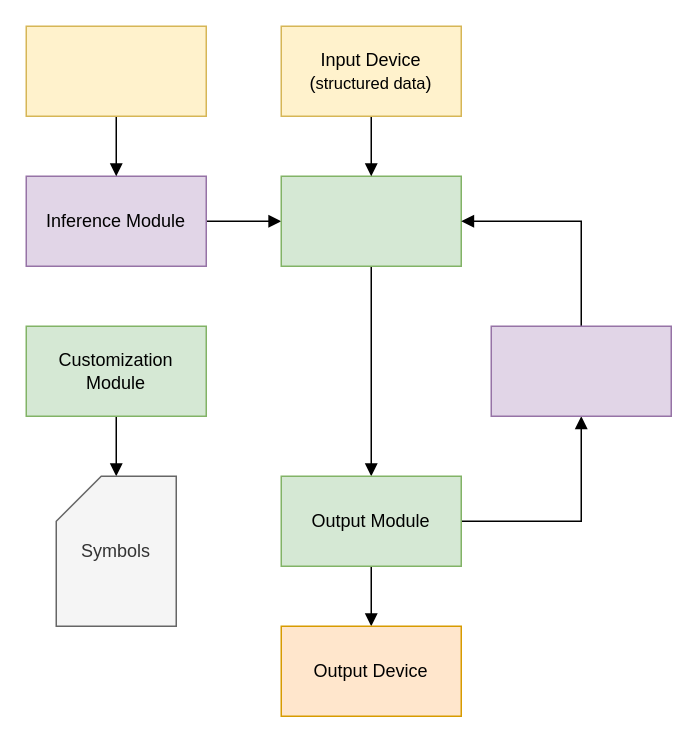
This 698x743 diagram has some shape labels left out. The box of each missing label's shape, as (x1, y1, x2, y2) in pixels:
Input Device (un structured data ): (25, 25, 206, 116)
Input Module: (280, 175, 461, 266)
Prediction Module: (490, 325, 671, 416)
